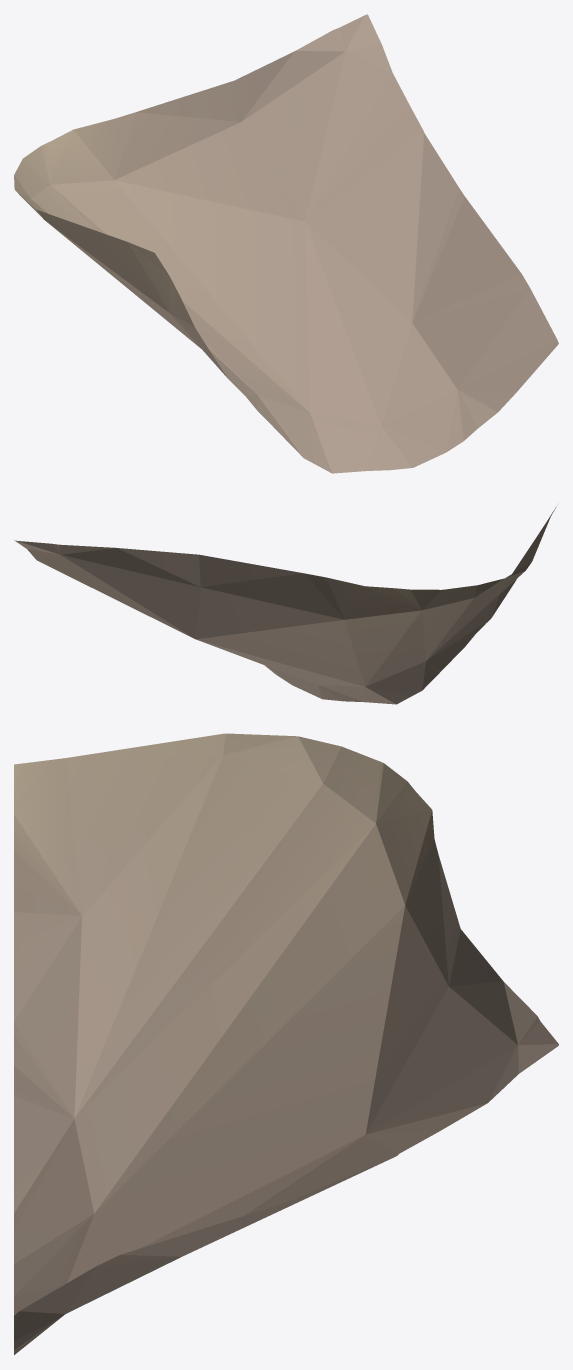
The model's file is bisect-5-2-8.gltf.
3 views of the same model, one above another, from view 1: azimuth 30°, elevation 25°; view 2: azimuth 150°, elevation 25°; view 3: azimuth 270°, elevation 25° (orthographic). The views are drawn at different scales.
Parts seen in each view (by area): view 1: bisect-5-2-8; view 2: bisect-5-2-8; view 3: bisect-5-2-8.
Boxes of the visible parts, <box> form: bisect-5-2-8: <box>14,14,558,473</box>; bisect-5-2-8: <box>14,506,556,704</box>; bisect-5-2-8: <box>14,733,558,1354</box>.
Bounding box in the file's own units: 15.73 × 9.31 × 11.61.
